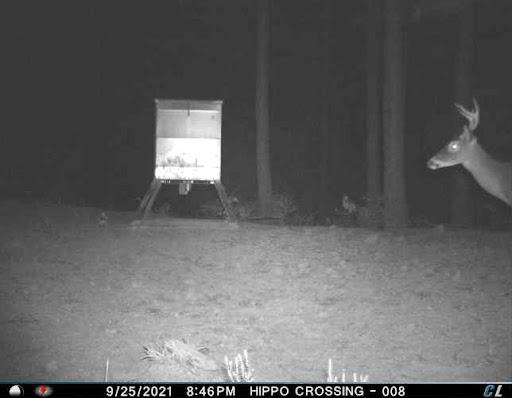Deer: (420, 92, 512, 217)
